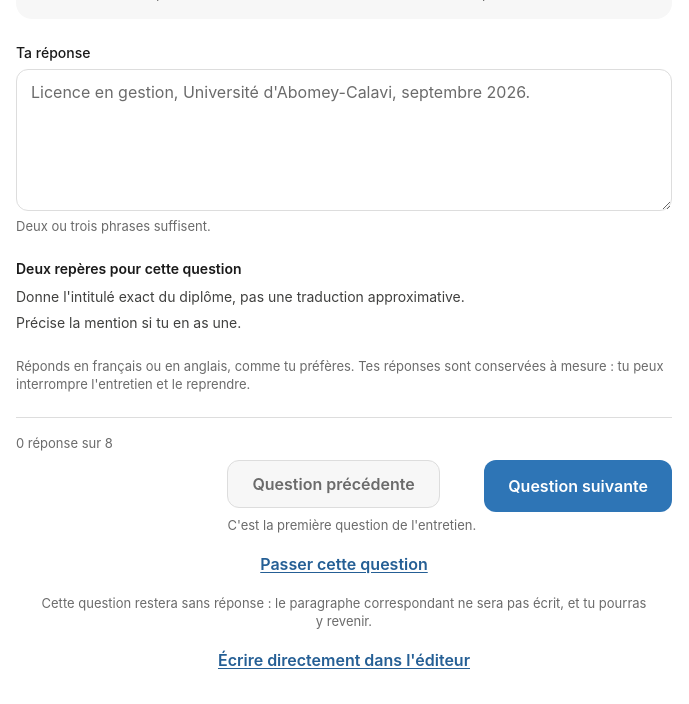
Scenario: R-02 — Entretien guidé › avance, recule, et bloque au début
(page scrolled)
Expected: the button "Question précédente" is disabled, x1=228 y1=460 x2=440 y2=508
Click the button "Question suivante".
click(578, 486)  # box x1=484 y1=460 x2=672 y2=512
(page scrolled)
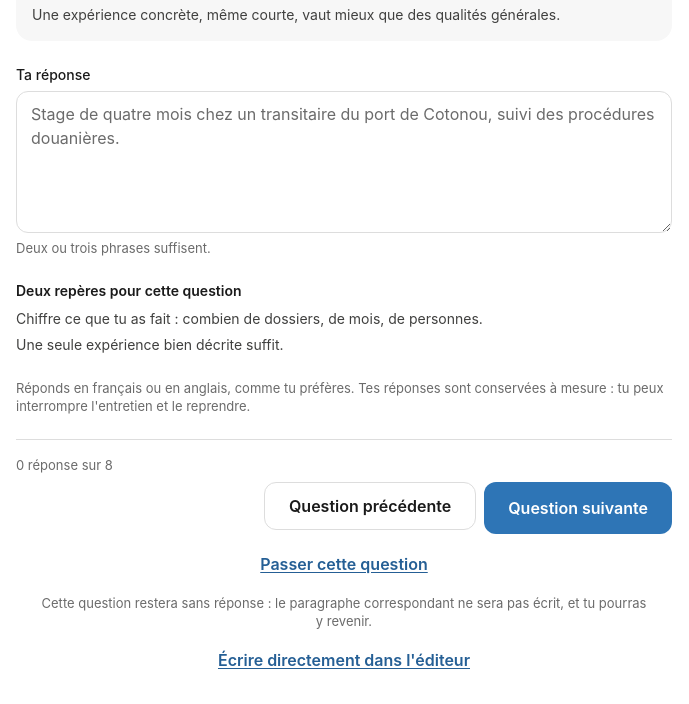
Click the button "Question précédente".
click(370, 506)  # box x1=264 y1=482 x2=476 y2=530
(page scrolled)
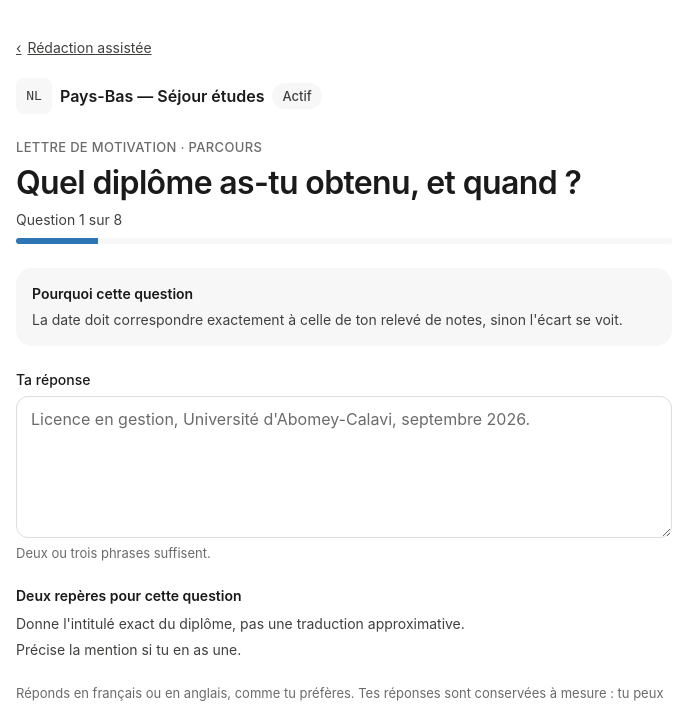
Result: the text "Question 1 sur 8" is shown at x1=16 y1=211 x2=122 y2=228
